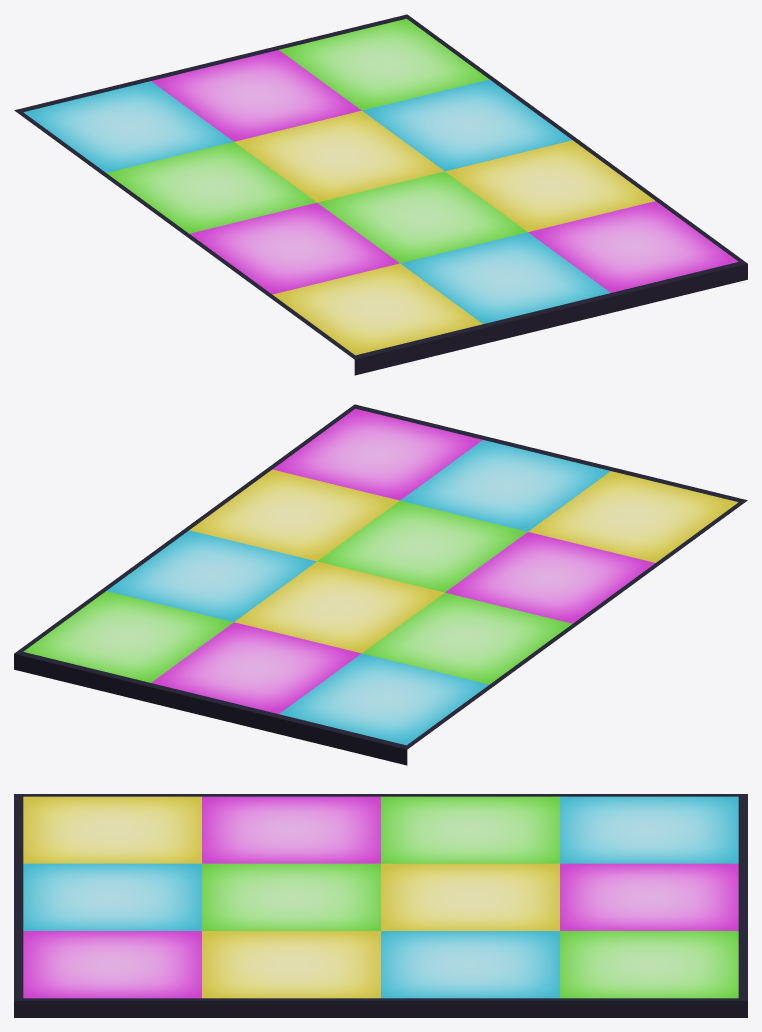
The model's file is 1.100_SanFrancisco_extra_16.glb.
The picture shows the model from 3 angles, top to bottom: view 1: azimuth 30°, elevation 25°; view 2: azimuth 150°, elevation 25°; view 3: azimuth 270°, elevation 25°; orthographic projection. The views are drawn at different scales.
Parts seen in each view (by area): view 1: 1.100_SanFrancisco_extra_16; view 2: 1.100_SanFrancisco_extra_16; view 3: 1.100_SanFrancisco_extra_16.
Boxes of the visible parts, x1,y1,x2,y2 form: 1.100_SanFrancisco_extra_16: [14, 14, 747, 375]; 1.100_SanFrancisco_extra_16: [14, 404, 747, 765]; 1.100_SanFrancisco_extra_16: [14, 794, 747, 1017].
Bounding box in the file's own units: 29.64 × 1.15 × 44.47.
1 material, 1 textured.
